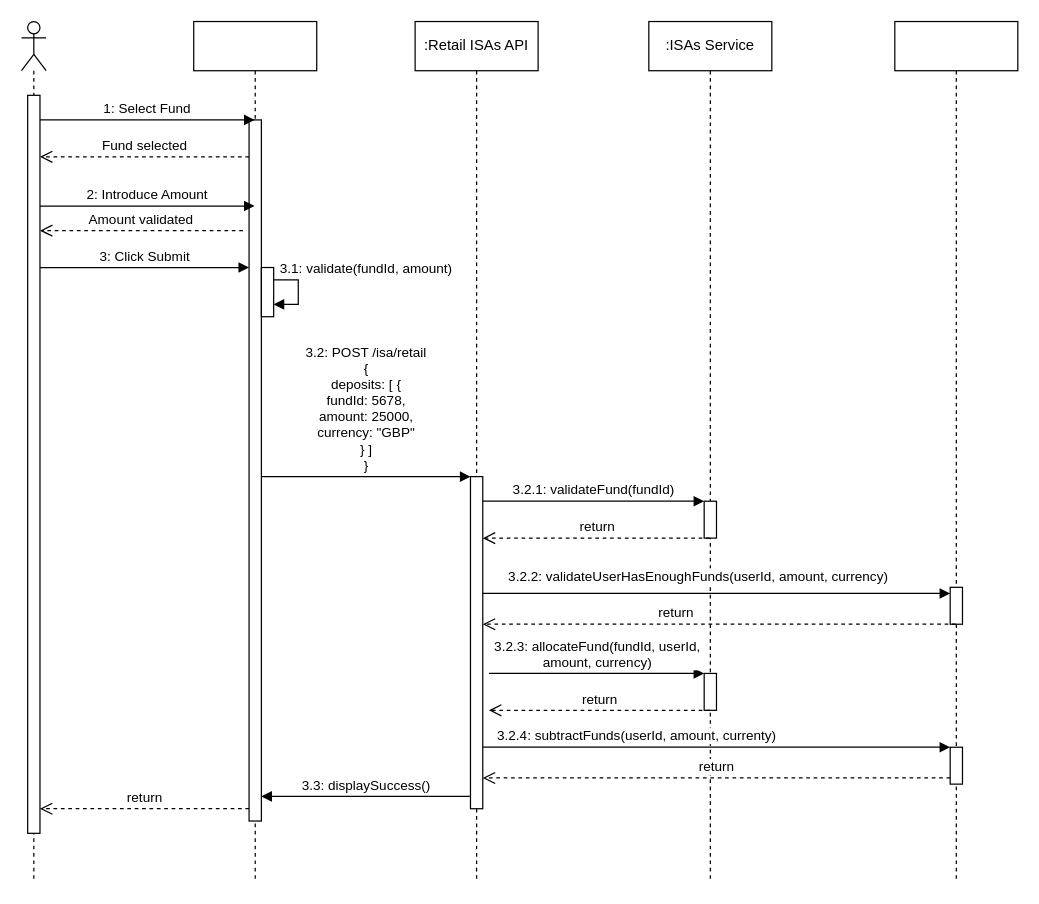
Image size: 1039x904. Some labels were removed from this diagram. Each missing label, with the box of its shape:
:Users Service: (894, 20, 1018, 883)
:Web Form: (192, 20, 317, 883)
